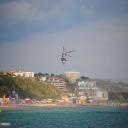helicopter: (55, 48, 76, 66)
